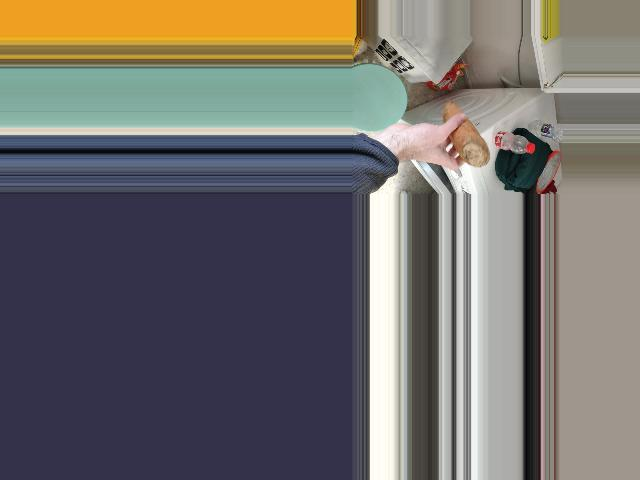sweet_potato: (445, 101, 490, 166)
